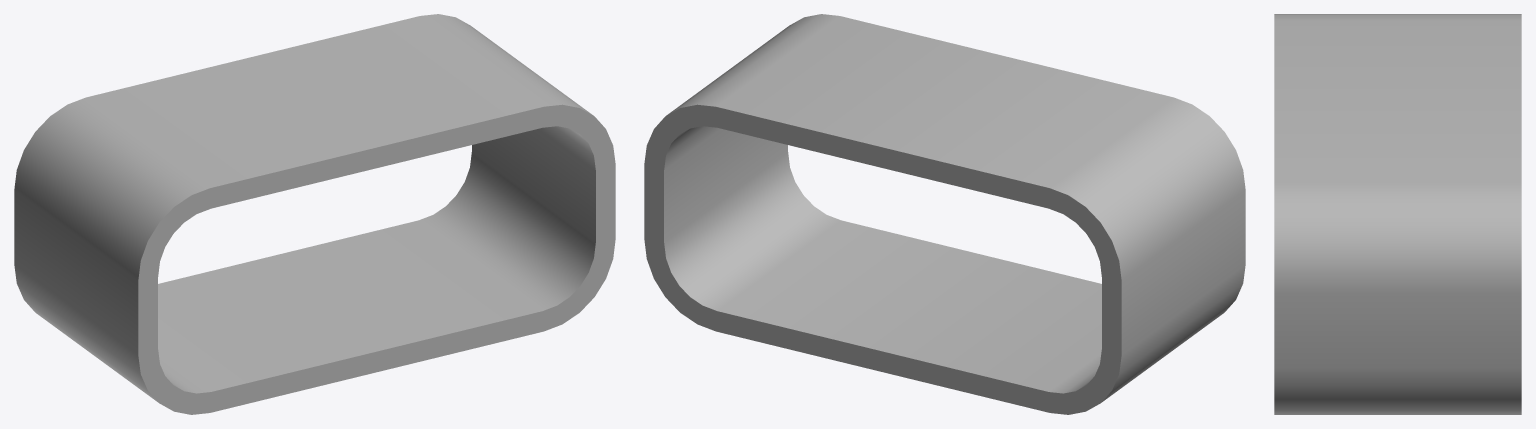
Rendered from SM_Props_Furniture_02.fbx.
3 views of the same model, side by side, from view 1: azimuth 30°, elevation 25°; view 2: azimuth 150°, elevation 25°; view 3: azimuth 270°, elevation 25° (orthographic).
Parts seen in each view (by area): view 1: SM_Props_Furniture_02; view 2: SM_Props_Furniture_02; view 3: SM_Props_Furniture_02.
Boxes of the visible parts, left/top/right/bottom form: SM_Props_Furniture_02: left=14, top=14, right=615, bottom=414; SM_Props_Furniture_02: left=644, top=14, right=1245, bottom=414; SM_Props_Furniture_02: left=1274, top=14, right=1521, bottom=414.
Size of the model in its own units: 200 by 90 by 90.
